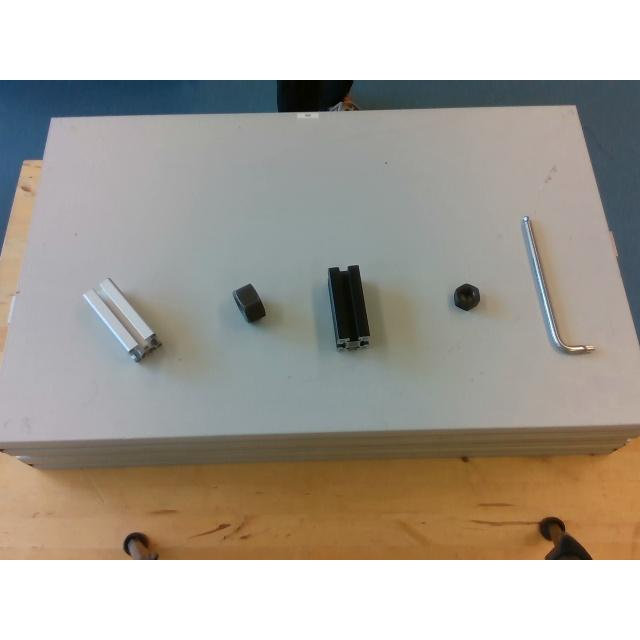AllenKey: (523, 214, 597, 354)
M20: (452, 282, 480, 310)
M30: (232, 284, 266, 322)
S40_40_B: (328, 264, 368, 348)
S40_40_G: (84, 278, 160, 358)
